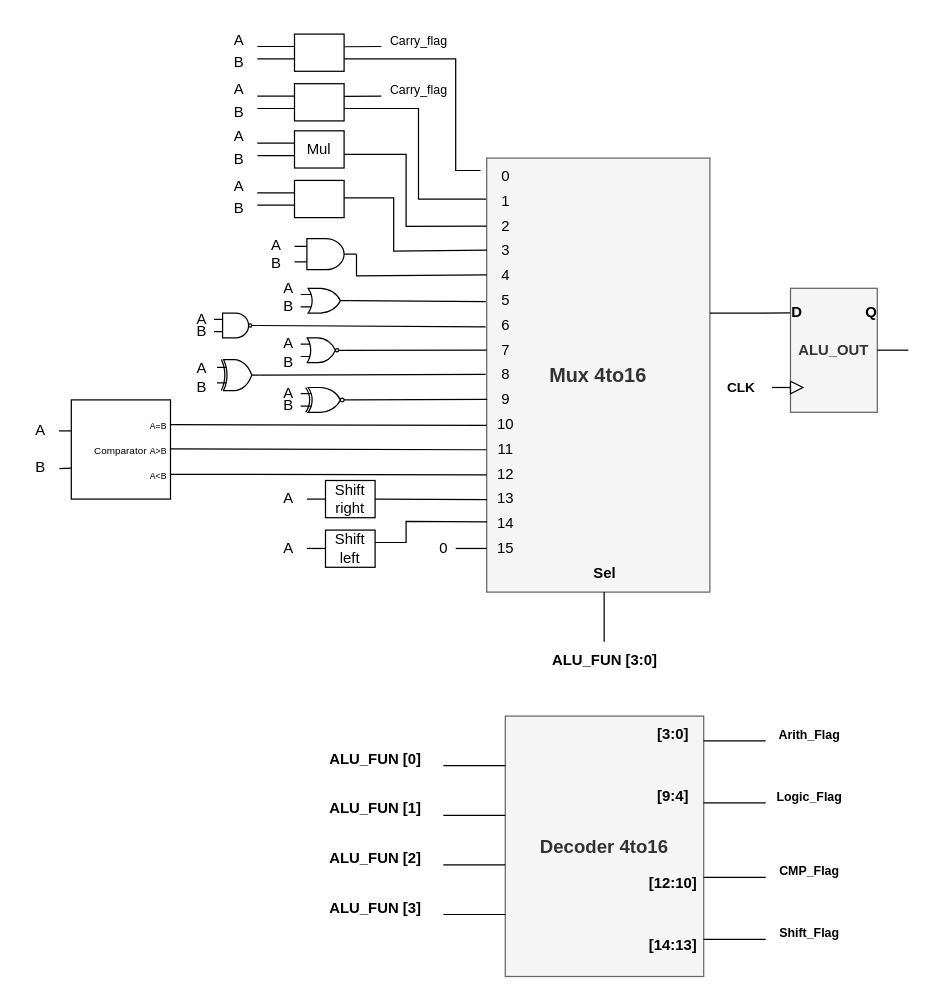
This 931x998 diagram has some shape labels left out. The shapes that lost their labels are listed below. From the top down, each one's centre as x and y in pixels, then its label:
the point at 318,52: Adder
the point at 318,101: Sub
the point at 318,198: Div
